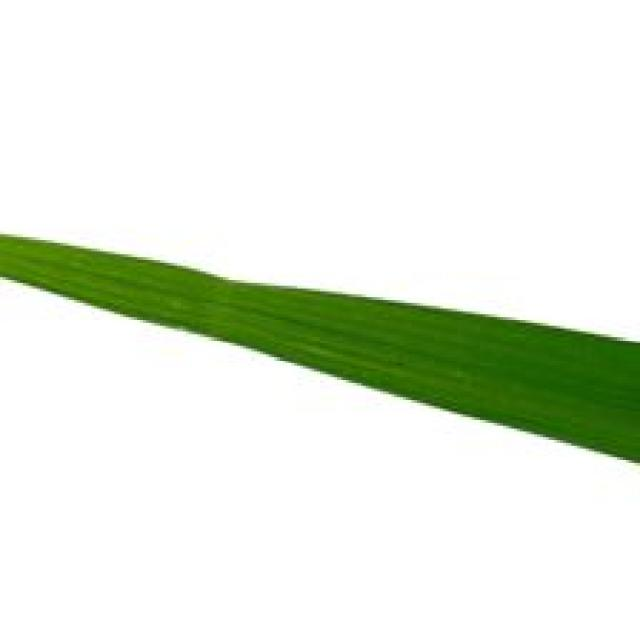Rice___Healthy_Rice_Plant: (1, 234, 637, 466)
